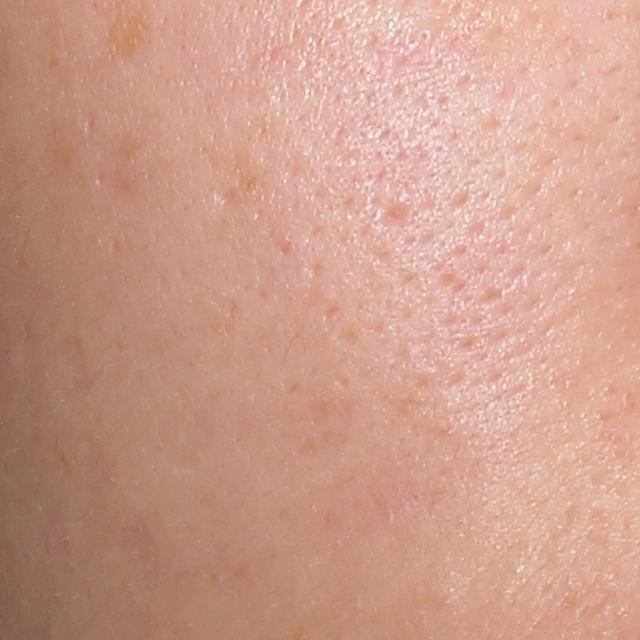atrophic_scar: (374, 200, 416, 231), (433, 269, 469, 302), (473, 284, 510, 312), (208, 187, 236, 214)
comedo: (412, 20, 437, 47)
